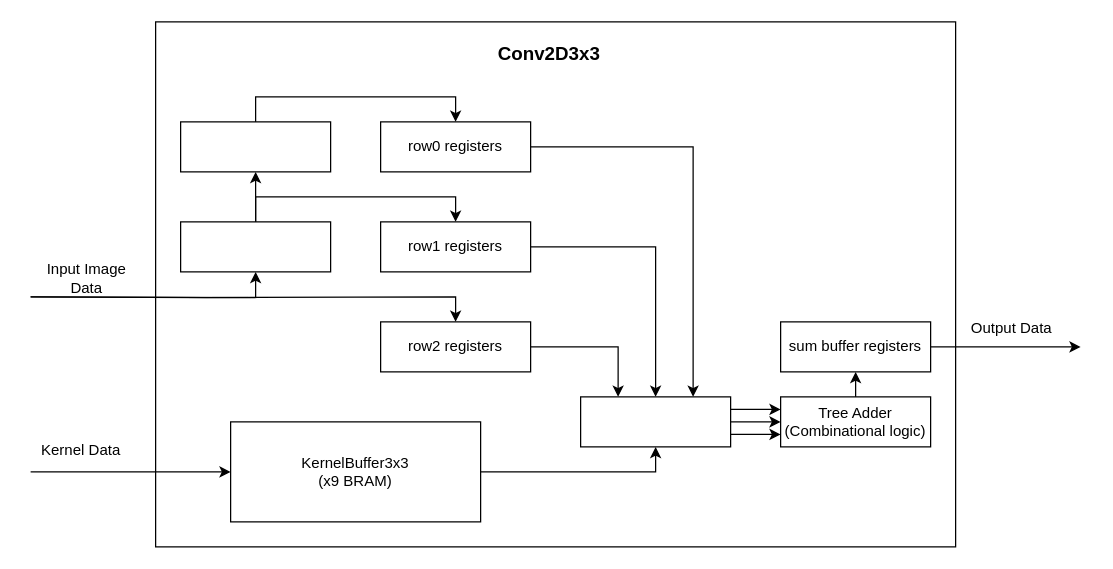
Some shapes in this 1113 by 569 pixel diagram are drawn without their labels. Each missing label, with the centre of its shape:
BRAM LineBuffer0: (x=255, y=146)
BRAM LineBuffer1: (x=255, y=246)
Multiplier (Combinational logic): (x=655, y=421)
